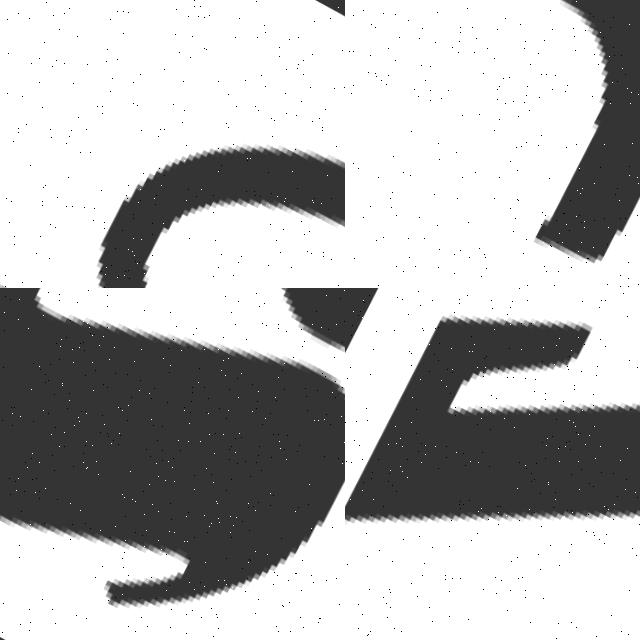2: (345, 0, 640, 288)
P: (91, 140, 345, 288)
V: (0, 288, 345, 640)
Z: (345, 288, 640, 640)
